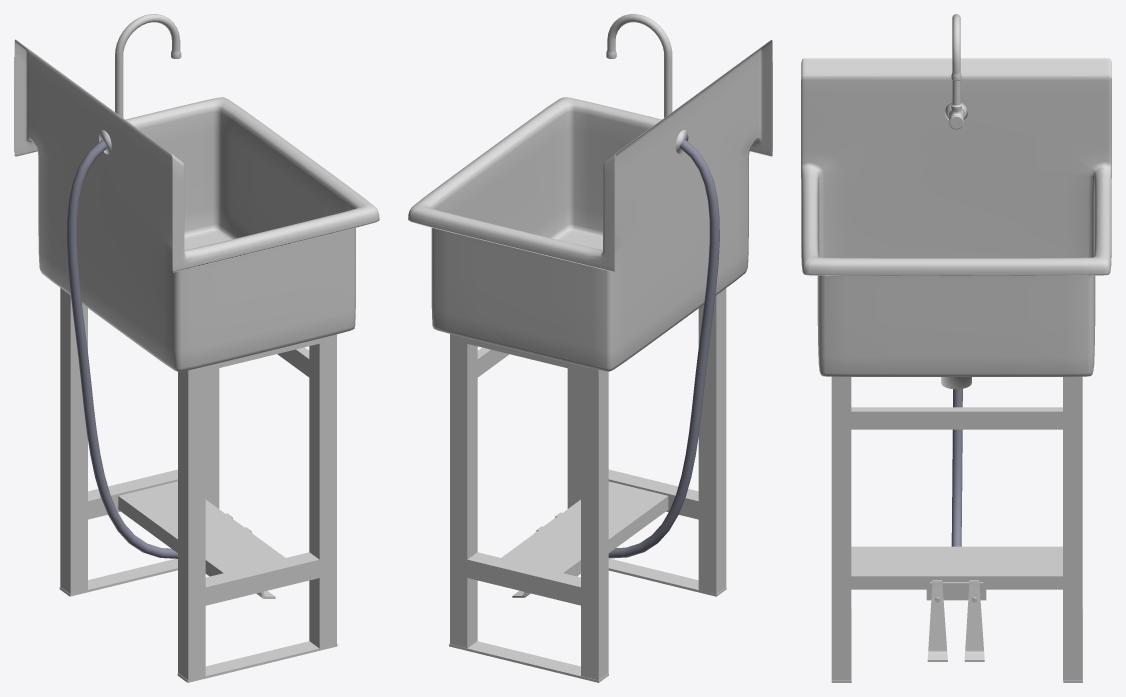
The picture shows the model from 3 angles, left to right: view 1: azimuth 30°, elevation 25°; view 2: azimuth 150°, elevation 25°; view 3: azimuth 270°, elevation 25°; orthographic projection.
Visible parts, largest first — view 1: Cube011, Cube, Cube003, Cube001, Cube007, BezierCurve, Cube005, Cube002, Cylinder001, Cube015, Cube006, Cube014 (+1 smaller); view 2: Cube011, Cube001, Cube002, Cube, Cube007, BezierCurve, Cube006, Cube003, Cylinder001, Cube014, Cube005, Cube015 (+1 smaller); view 3: Cube011, Cube007, Cube003, Cube002, Cube004, BezierCurve, Cylinder001, Cube017, Cube016.
Part boxes in pixels (left/top/right/bottom): Cube011: left=14, top=39, right=379, bottom=371; Cube: left=178, top=366, right=205, bottom=681; Cube003: left=309, top=334, right=336, bottom=649; Cube001: left=60, top=288, right=87, bottom=594; Cube007: left=118, top=481, right=285, bottom=576; BezierCurve: left=67, top=140, right=177, bottom=558; Cube005: left=205, top=552, right=320, bottom=605; Cube002: left=205, top=368, right=219, bottom=508; Cylinder001: left=99, top=14, right=181, bottom=154; Cube015: left=177, top=641, right=337, bottom=682; Cube006: left=86, top=469, right=177, bottom=519; Cube014: left=59, top=558, right=177, bottom=596; Cube011: left=408, top=40, right=772, bottom=371; Cube001: left=581, top=366, right=608, bottom=680; Cube002: left=450, top=334, right=477, bottom=648; Cube: left=698, top=288, right=726, bottom=594; Cube007: left=501, top=481, right=668, bottom=576; BezierCurve: left=608, top=139, right=719, bottom=558; Cube006: left=467, top=552, right=582, bottom=605; Cube003: left=567, top=368, right=580, bottom=508; Cylinder001: left=606, top=14, right=688, bottom=154; Cube014: left=449, top=641, right=608, bottom=682; Cube005: left=608, top=469, right=700, bottom=519; Cube015: left=608, top=558, right=726, bottom=596; Cube011: left=801, top=58, right=1111, bottom=376; Cube007: left=851, top=546, right=1062, bottom=589; Cube003: left=831, top=376, right=851, bottom=680; Cube002: left=1063, top=376, right=1082, bottom=680; Cube004: left=851, top=407, right=1062, bottom=429; BezierCurve: left=951, top=389, right=962, bottom=546; Cylinder001: left=945, top=14, right=967, bottom=129; Cube017: left=964, top=580, right=984, bottom=661; Cube016: left=927, top=580, right=947, bottom=661.
Size of what is drawn, in the model's own units: 0.5401 by 1.34 by 0.6247.
